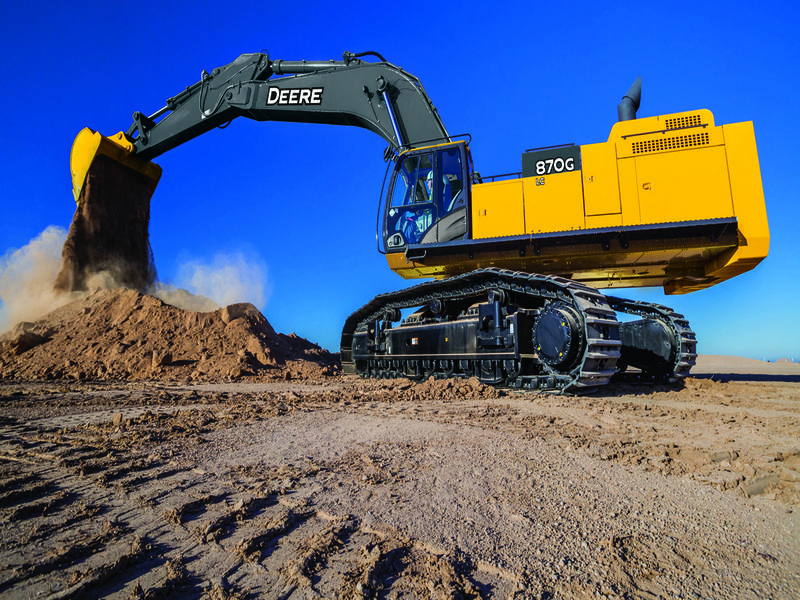shovel: (56, 45, 780, 403)
